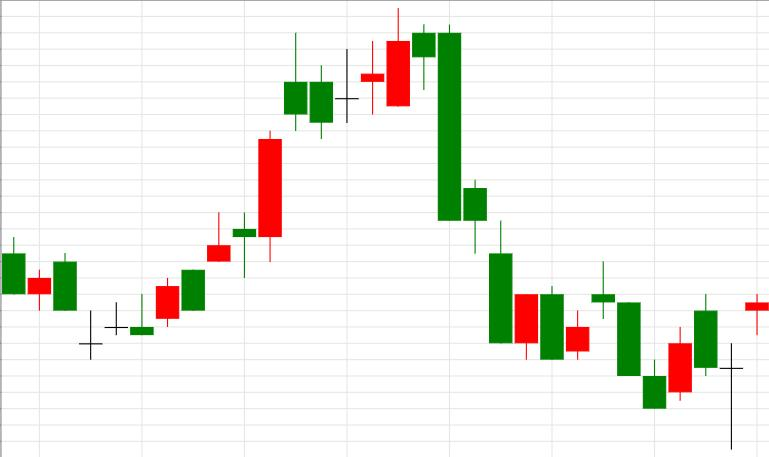shooting_star_fall: (156, 33, 308, 327)
